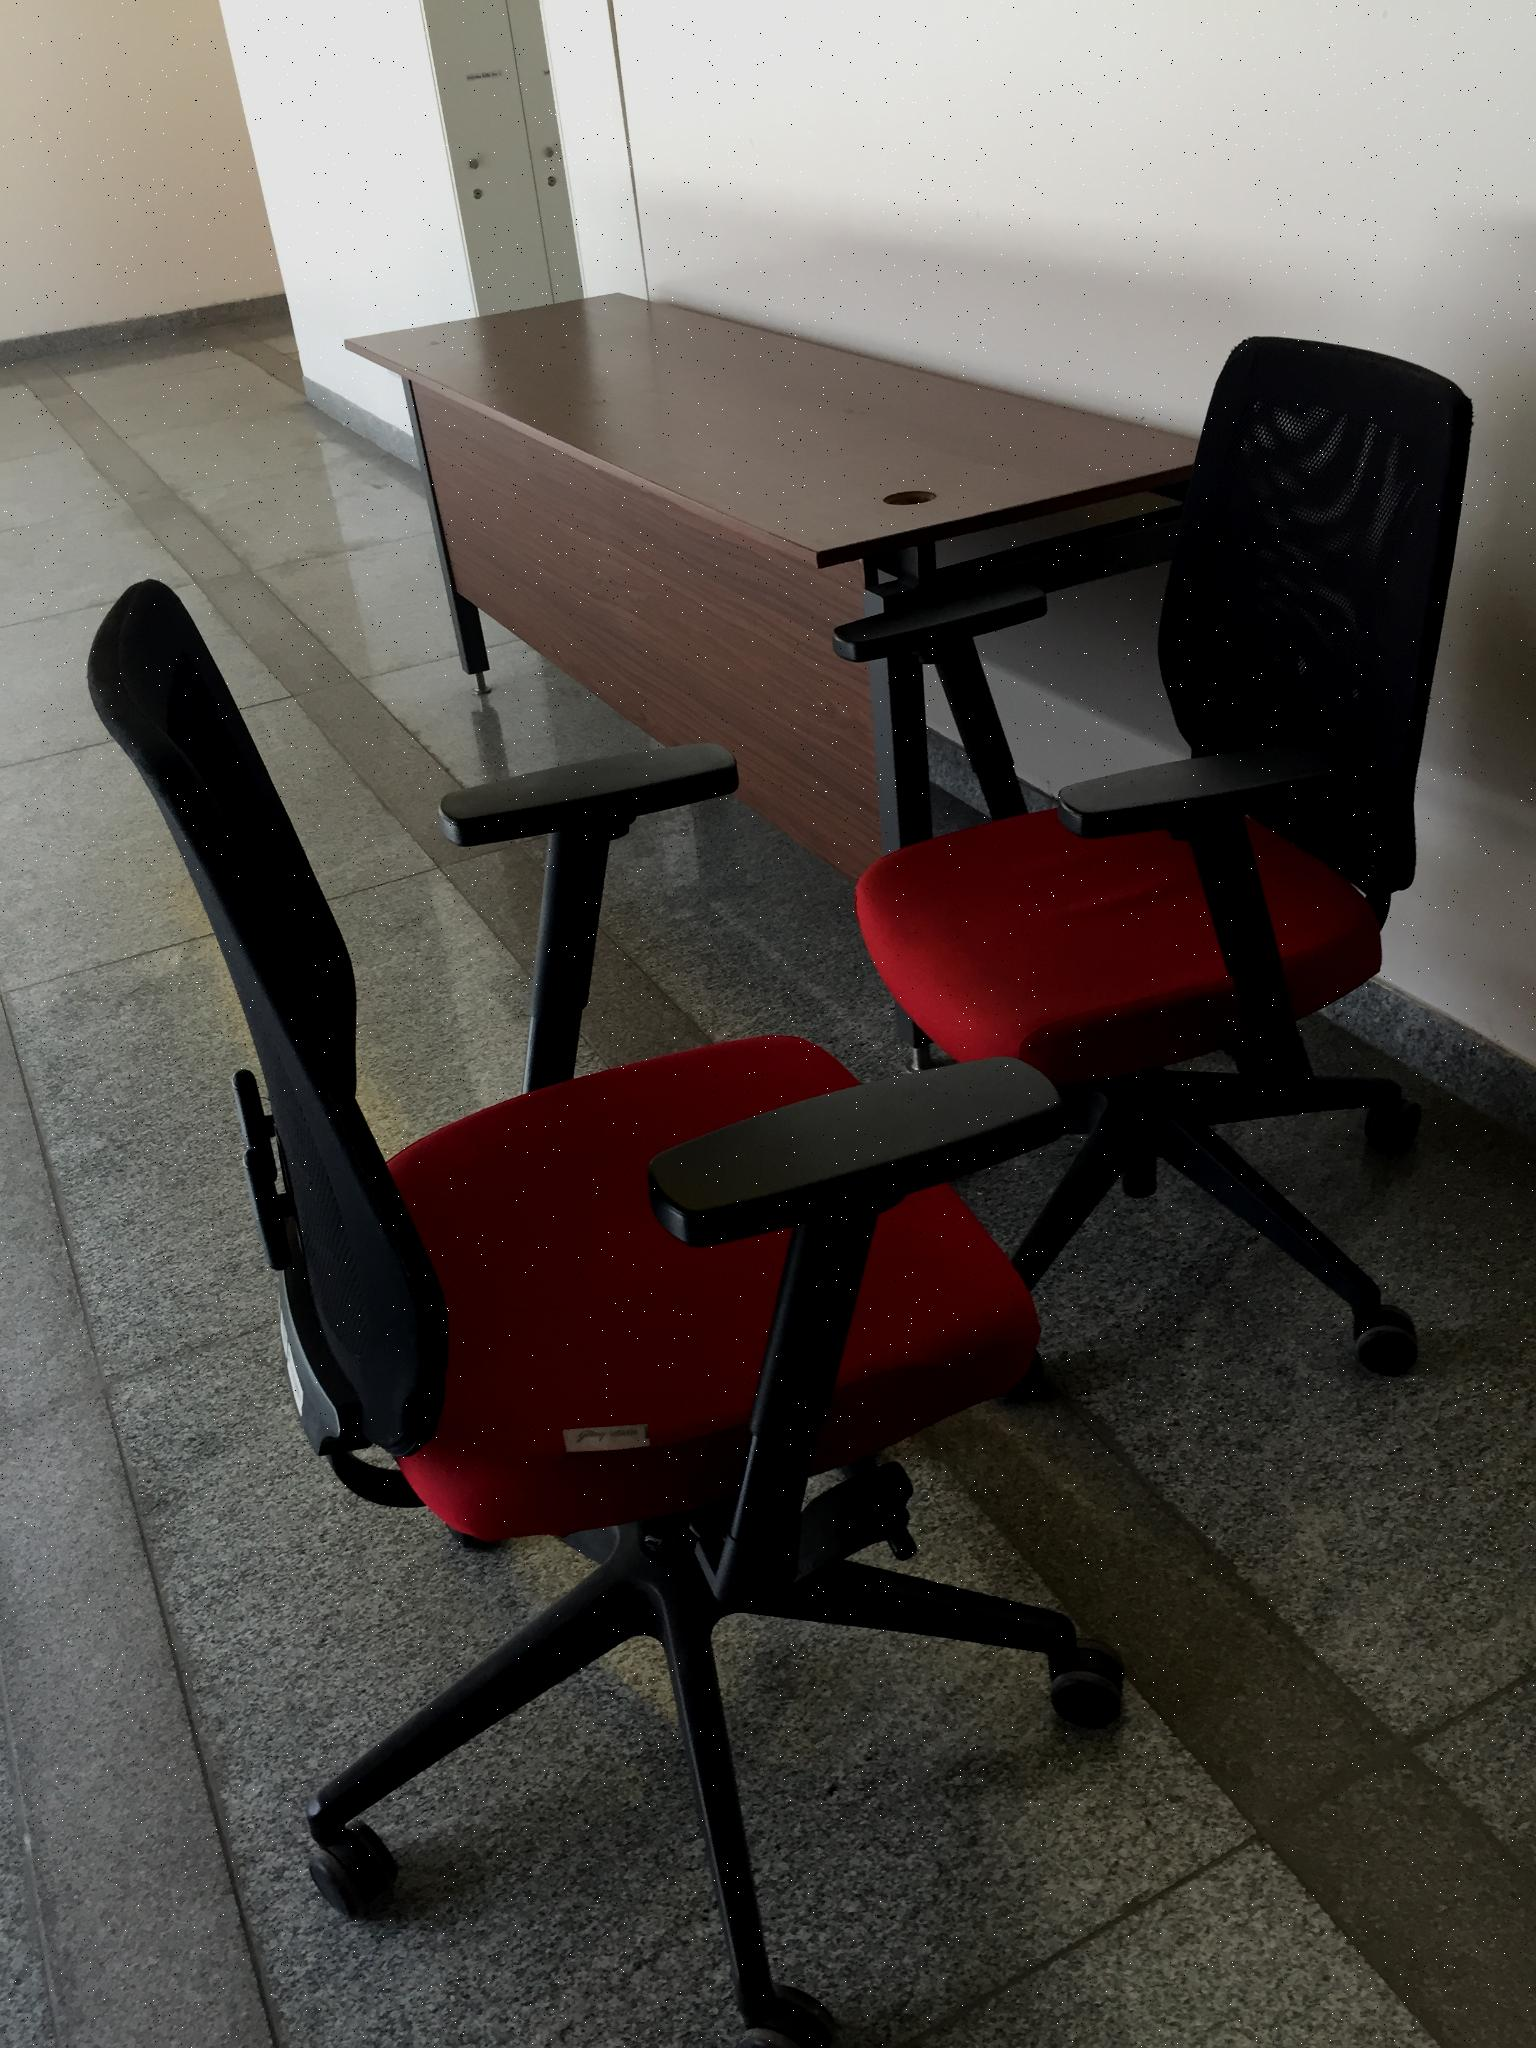chair: (86, 577, 1125, 2045), (834, 332, 1475, 1384)
